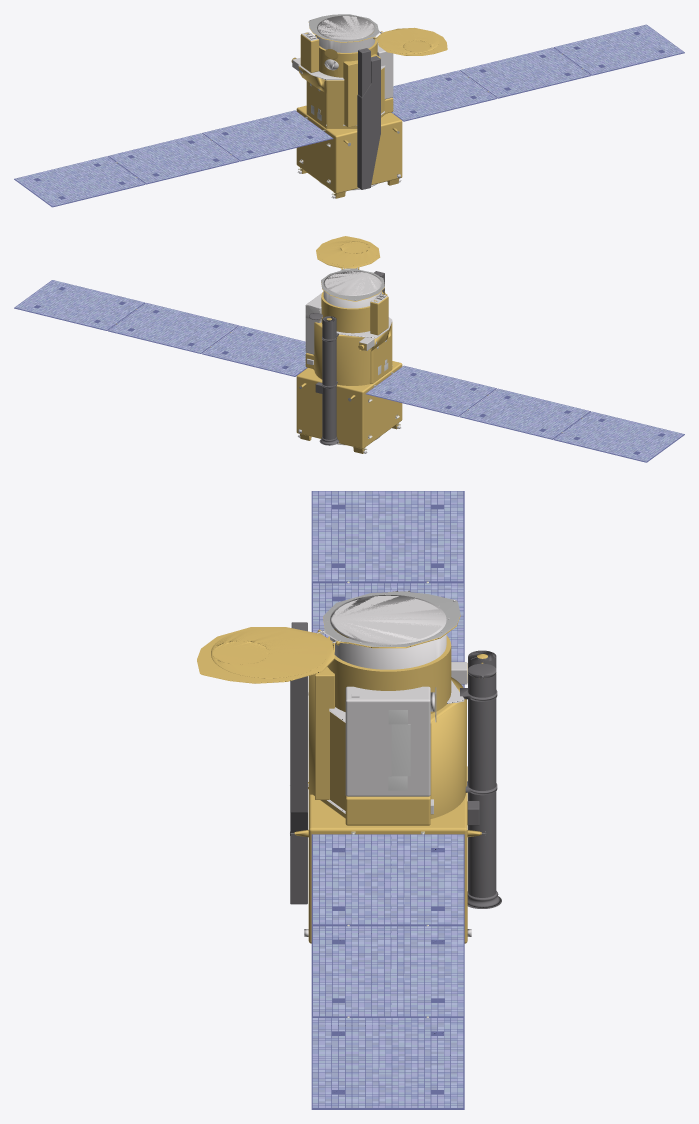
File: Hinode (Solar-B).glb
3 renders of one model, top to bottom at view 1: azimuth 30°, elevation 25°; view 2: azimuth 150°, elevation 25°; view 3: azimuth 270°, elevation 25°, orthographic. The views are drawn at different scales.
Parts seen in each view (by area): view 1: Fake; view 2: Fake; view 3: Fake.
Boxes of the visible parts, box(x1,y1,x2,y2) form: Fake: box(14, 14, 684, 207); Fake: box(14, 236, 684, 462); Fake: box(197, 491, 501, 1109).
Size of the model in its own units: 230 by 52.5 by 47.96.
